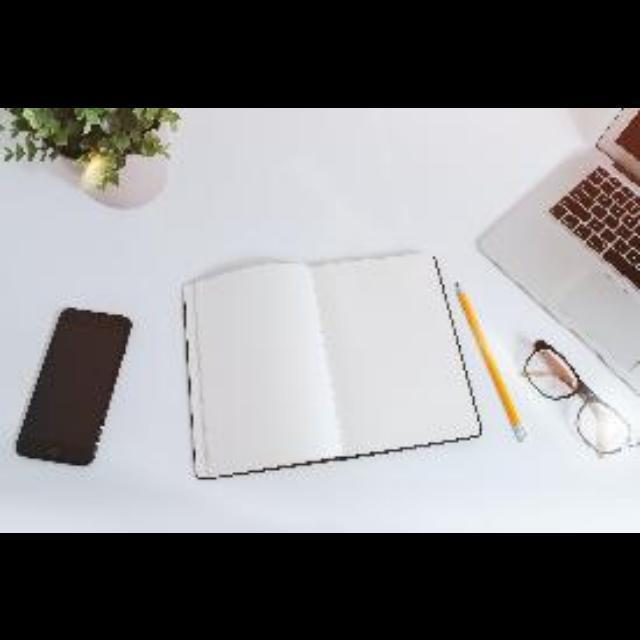phone: (5, 305, 137, 473)
